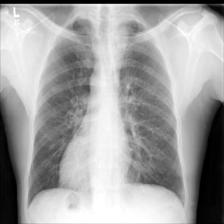normal: (24, 16, 185, 209)
